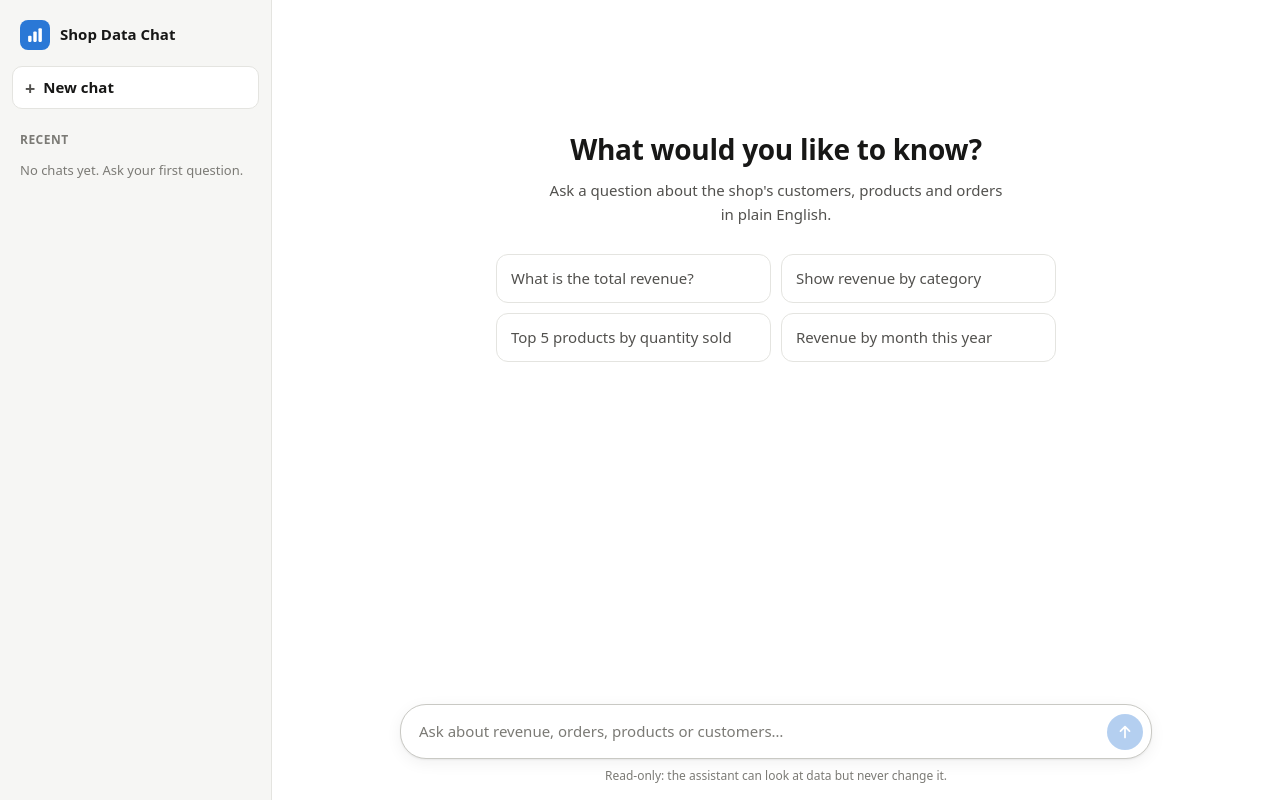
the chat page › shows a refusal as a polite sentence with no table or SQL
The width and height of the screenshot is (1280, 800).
Type "delete all orders" into the text box named "Ask a question" at {"x": 759, "y": 732}, box [419,713,1099,750]
Then press Enter
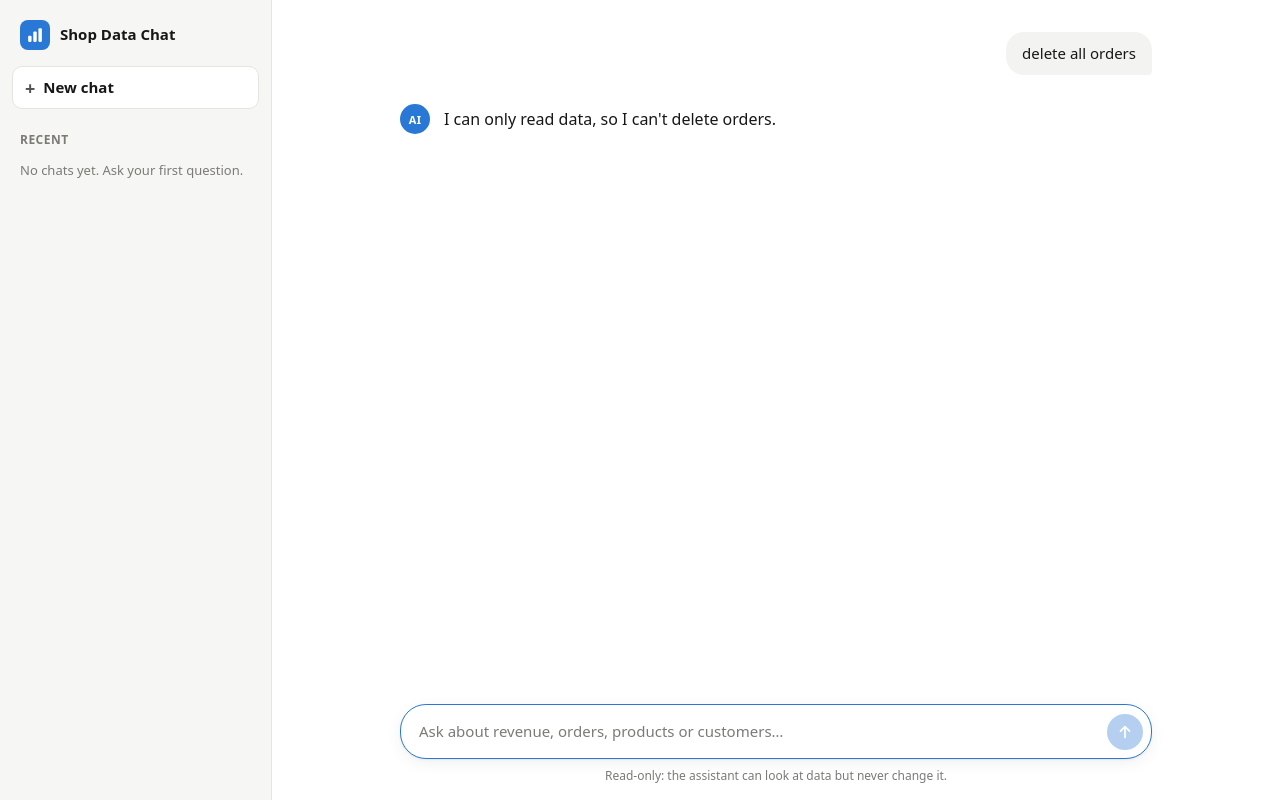
expect the text "I can only read data, so I can't delete orders." is shown: met, box [444,108,776,130]
